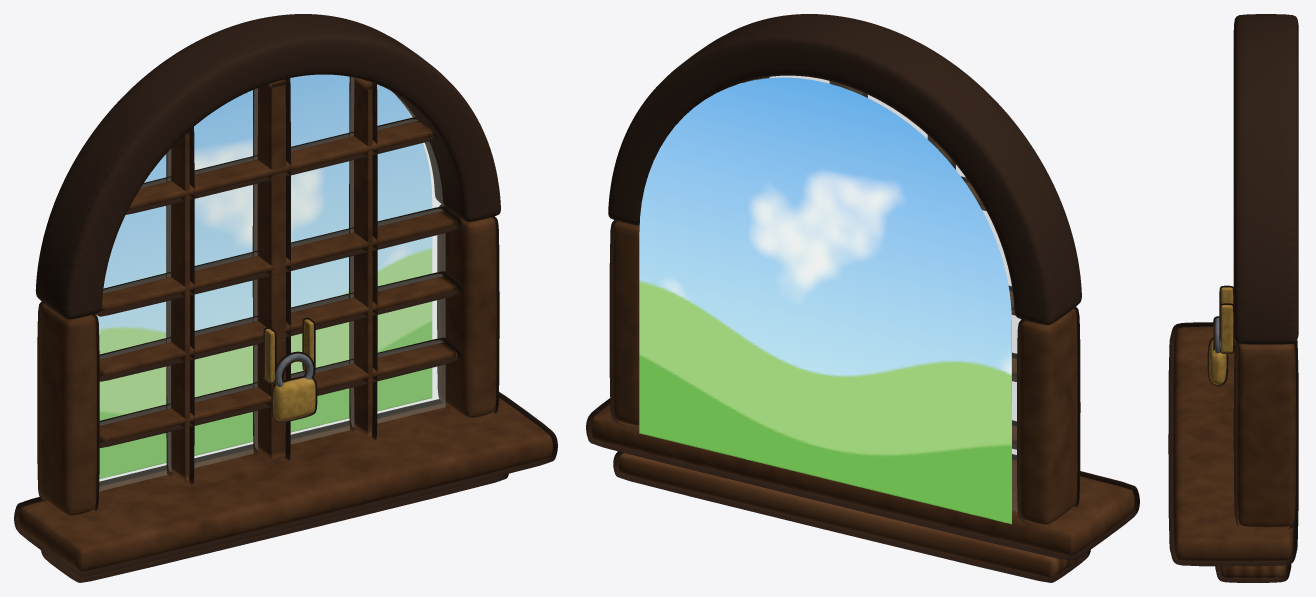
Rendered from Lab_Window.fbx.
3 views of the same model, side by side, from view 1: azimuth 30°, elevation 25°; view 2: azimuth 150°, elevation 25°; view 3: azimuth 270°, elevation 25° (orthographic). The views are drawn at different scales.
Visible parts, largest first — view 1: Lab_Window, Lab_Window_Outline, Lab_Window_Glass; view 2: Lab_Window, Lab_Window_Outline, Lab_Window_Glass; view 3: Lab_Window, Lab_Window_Outline.
Boxes of the visible parts, <box> form: Lab_Window: <box>19,74,552,577</box>; Lab_Window_Outline: <box>14,14,557,582</box>; Lab_Window_Glass: <box>97,75,445,491</box>; Lab_Window: <box>591,77,1134,577</box>; Lab_Window_Outline: <box>586,14,1139,582</box>; Lab_Window_Glass: <box>746,76,1020,511</box>; Lab_Window: <box>1173,287,1296,578</box>; Lab_Window_Outline: <box>1168,14,1298,582</box>.
Size of the model in its own units: 4 by 3.82 by 1.02.
